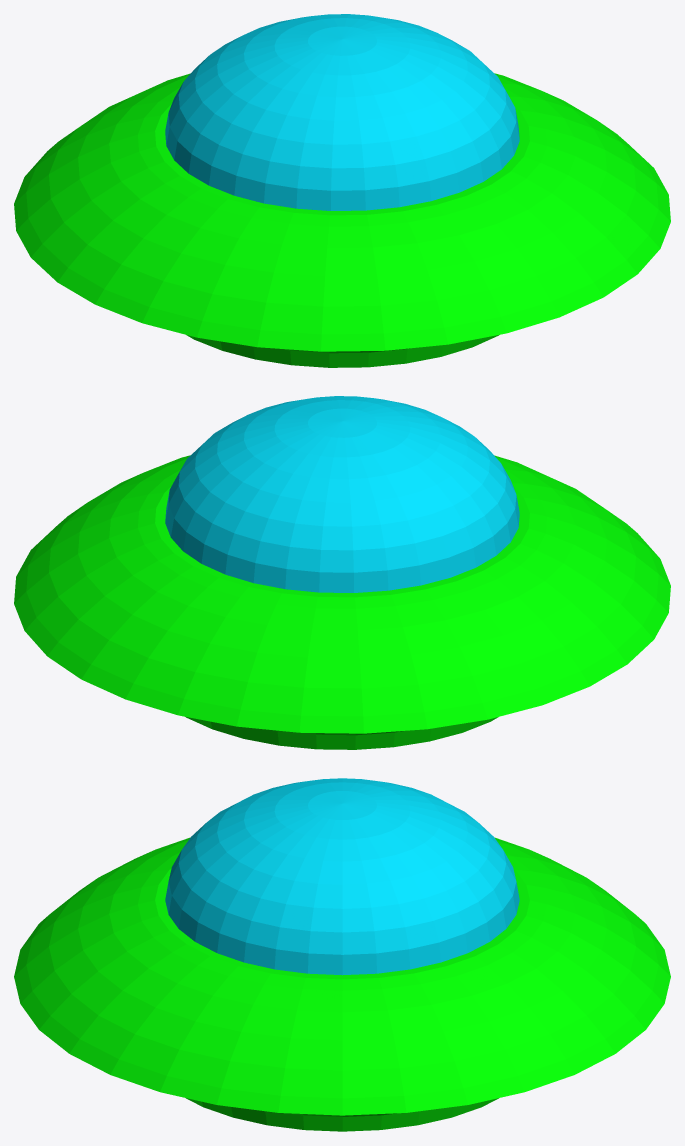
Rendered from ufo.glb.
3 renders of one model, top to bottom at view 1: azimuth 30°, elevation 25°; view 2: azimuth 150°, elevation 25°; view 3: azimuth 270°, elevation 25°, orthographic.
Visible parts, largest first — view 1: Circle; view 2: Circle; view 3: Circle.
Boxes of the visible parts, left/top/right/bottom form: Circle: left=14, top=14, right=670, bottom=367; Circle: left=14, top=396, right=670, bottom=749; Circle: left=14, top=778, right=670, bottom=1131.
Size of the model in its own units: 3.34 by 1.37 by 3.34.
